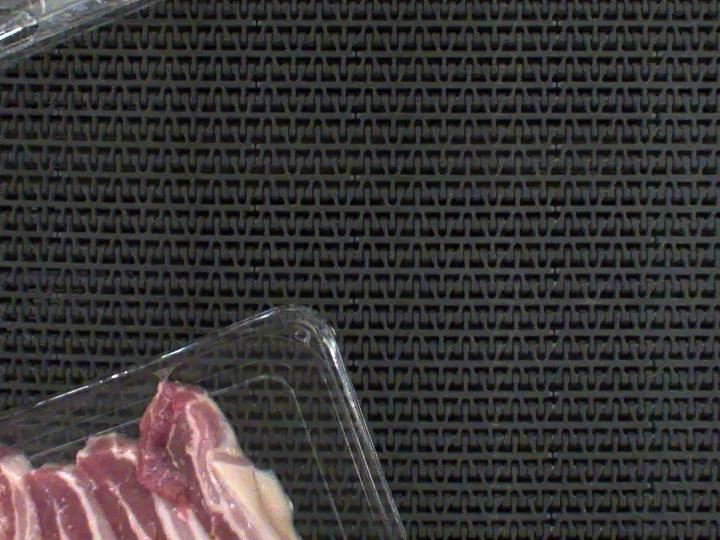packaging-error: (149, 360, 186, 391)
